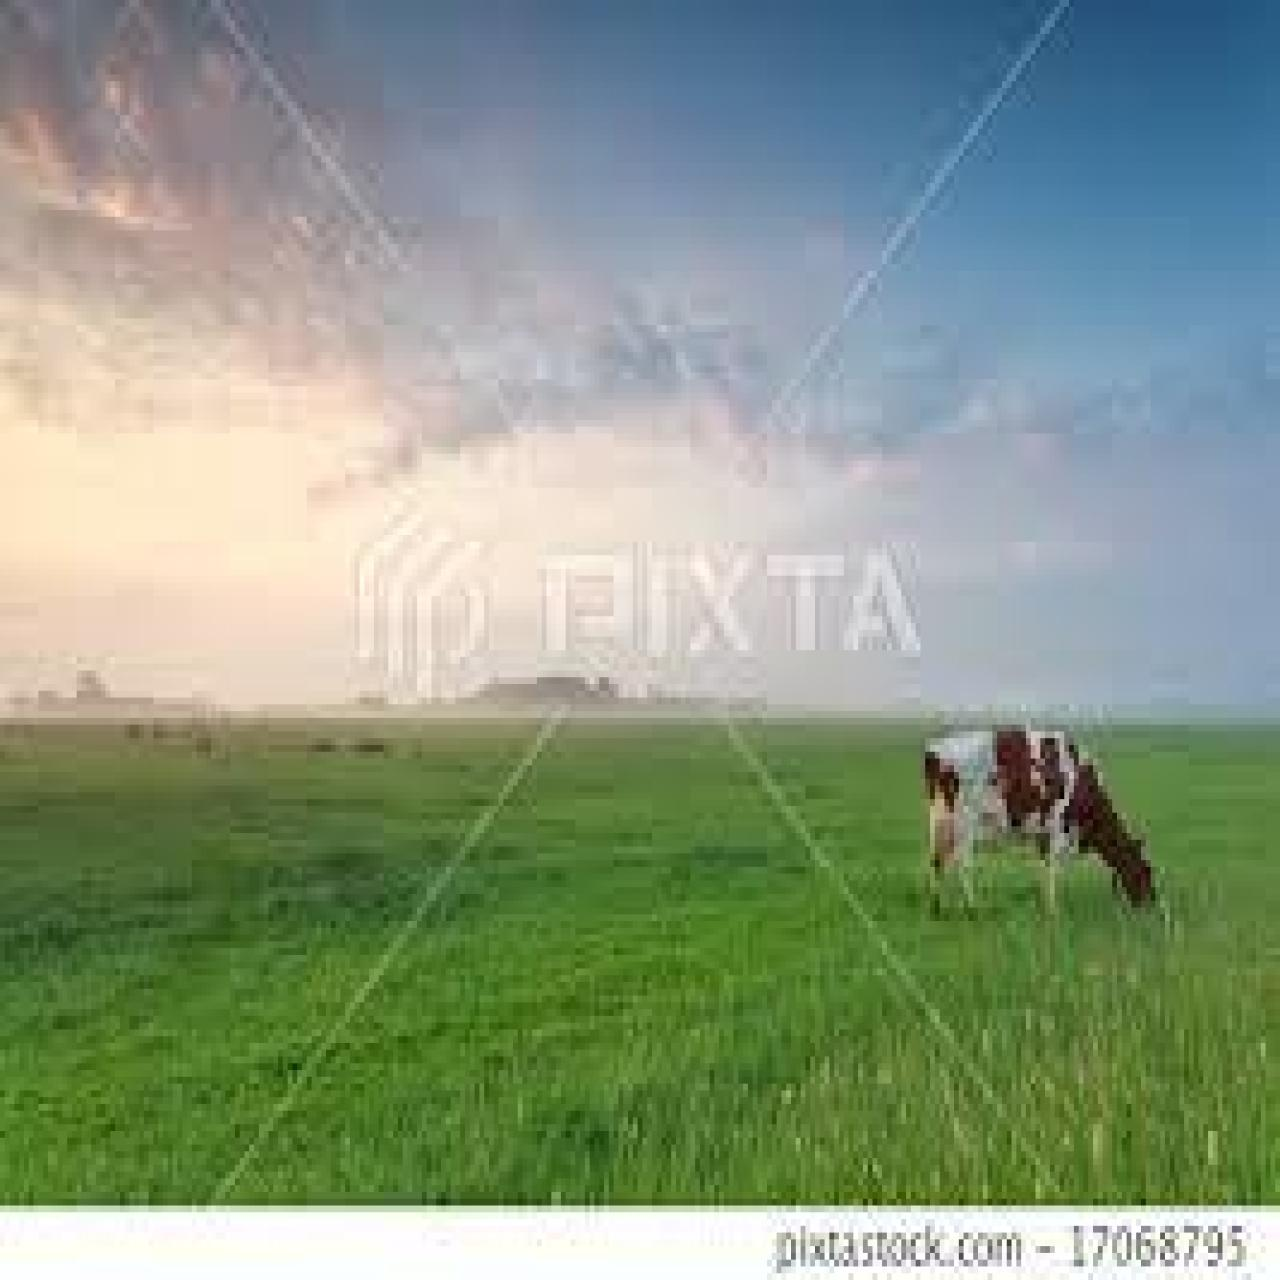cow: (925, 724, 1160, 914)
